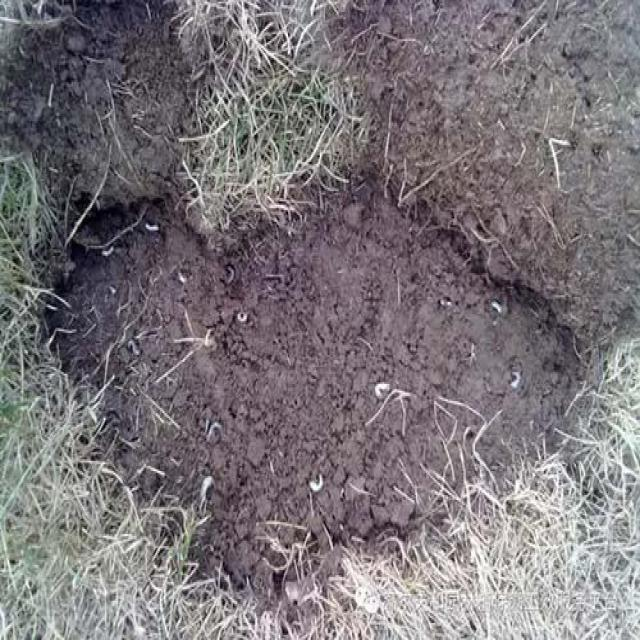Grub-Adult-: (373, 372, 394, 402), (305, 470, 326, 499), (507, 367, 526, 397), (168, 266, 191, 287), (144, 221, 166, 237), (232, 311, 252, 326)
